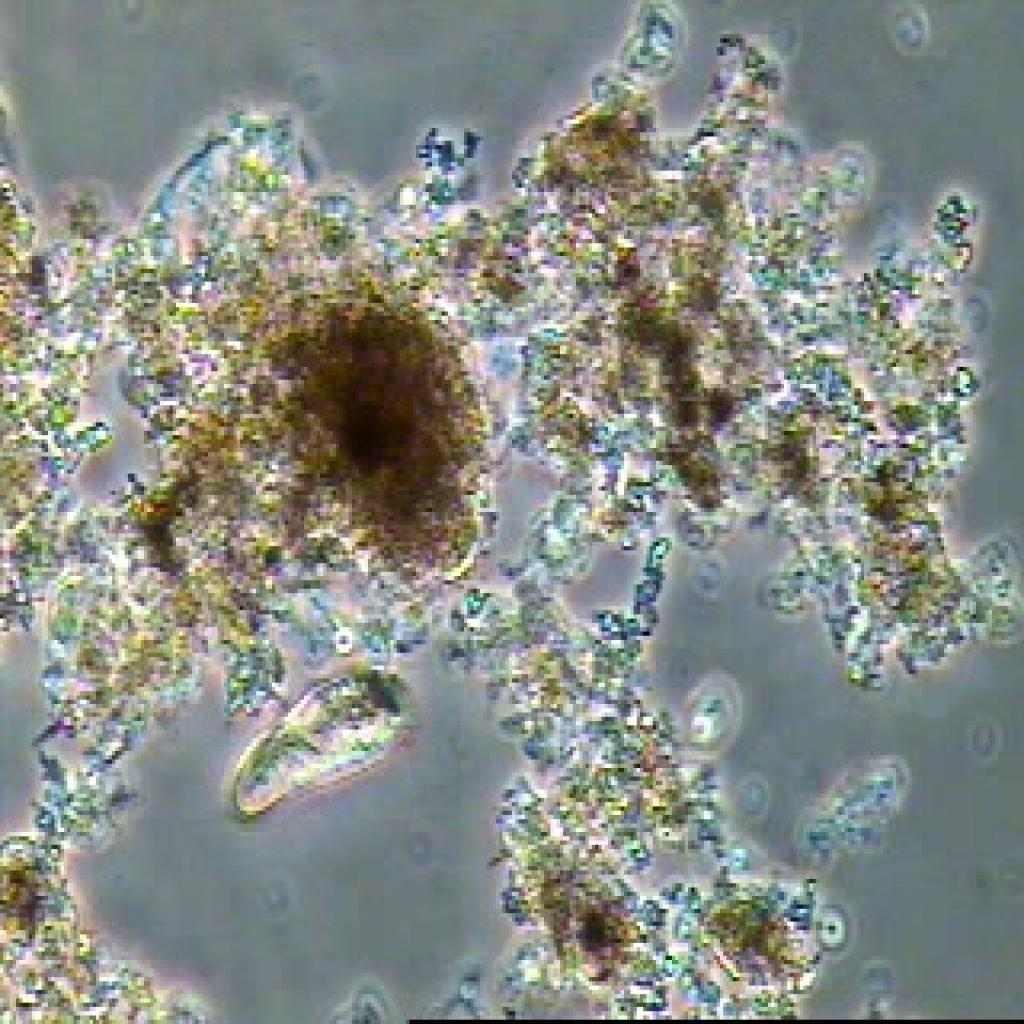Paramecium: (194, 664, 427, 826)
